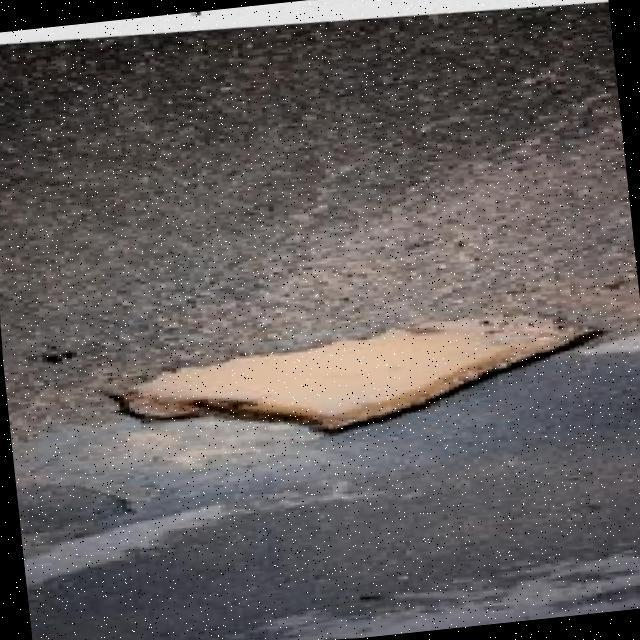Pothole: (122, 315, 599, 432)
